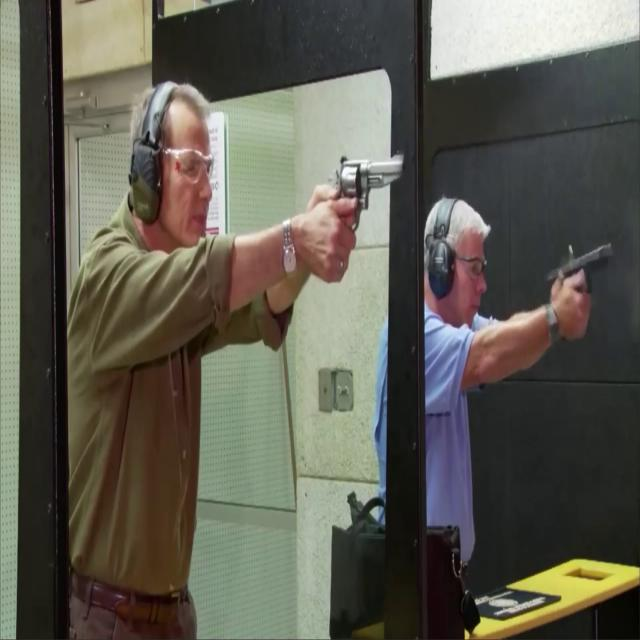Gun: (331, 152, 406, 243), (546, 242, 612, 312)
